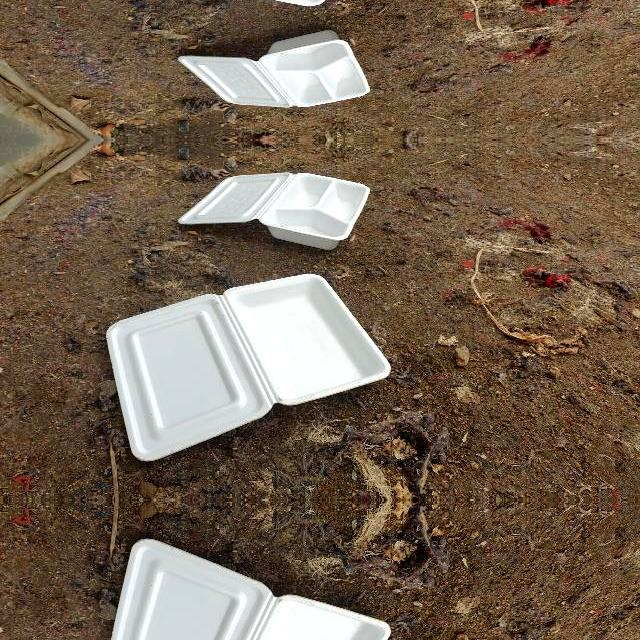Styrofoam: (105, 273, 391, 461), (106, 274, 390, 461), (105, 539, 391, 640), (110, 539, 390, 640), (178, 172, 370, 250), (178, 30, 370, 108), (178, 172, 370, 249), (178, 31, 370, 108)
